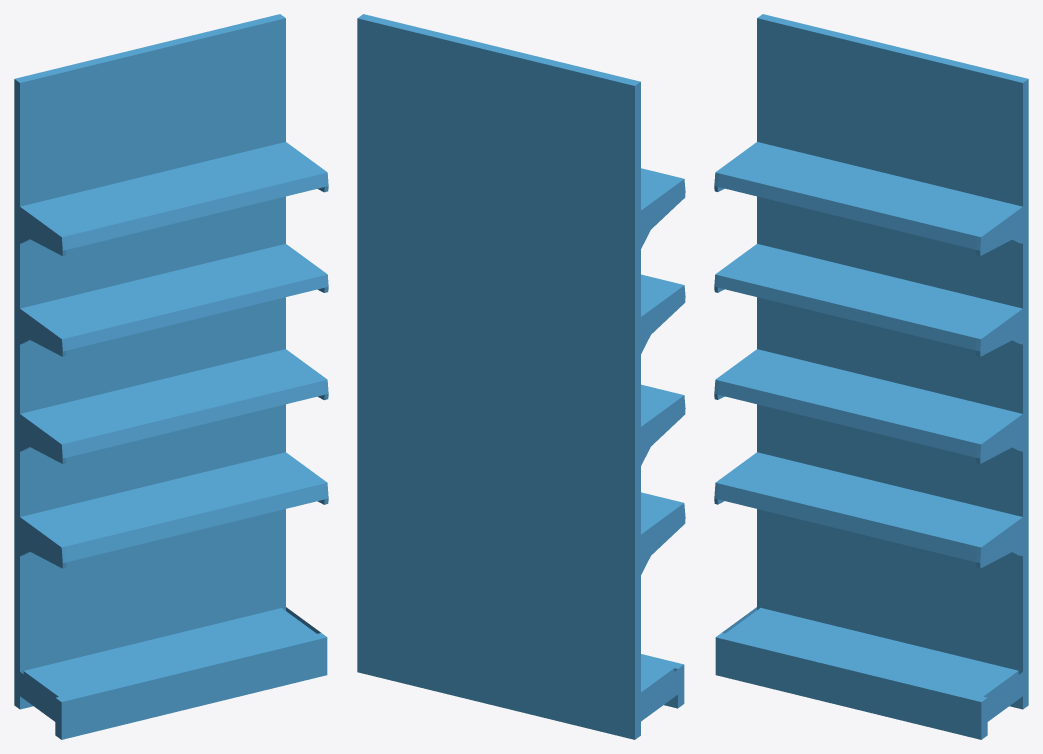
The model's file is Etagere.001.fbx.
The picture shows the model from 3 angles, left to right: view 1: azimuth 30°, elevation 25°; view 2: azimuth 150°, elevation 25°; view 3: azimuth 330°, elevation 25°; orthographic projection. The views are drawn at different scales.
Parts seen in each view (by area): view 1: Etagere2; view 2: Etagere2; view 3: Etagere2.
Boxes of the visible parts, <box> form: Etagere2: <box>14,14,328,739</box>; Etagere2: <box>357,14,685,739</box>; Etagere2: <box>714,14,1028,739</box>.
Size of the model in its own units: 89.62 by 202 by 28.39.
